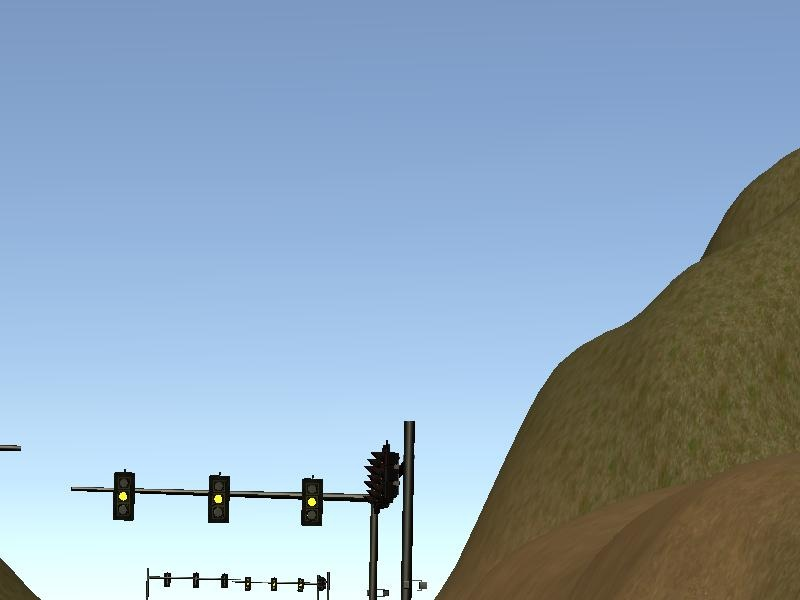YELLOW: (300, 478, 324, 525), (206, 475, 230, 522), (111, 472, 135, 519)
